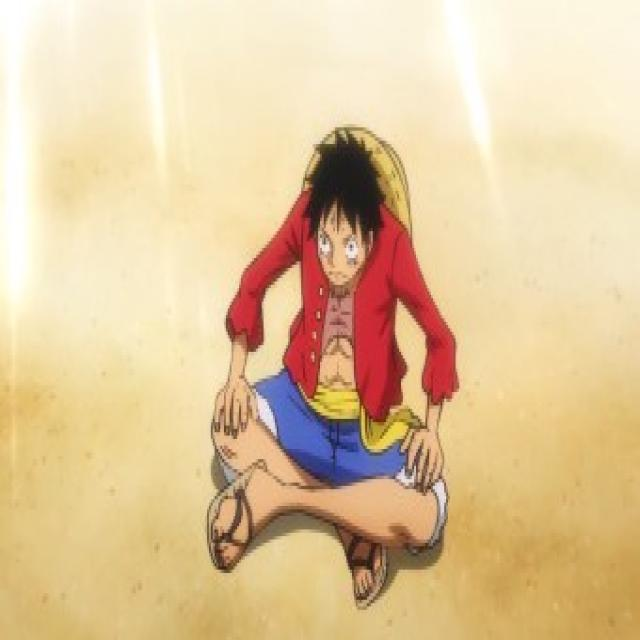Luffy: (275, 106, 423, 323)
